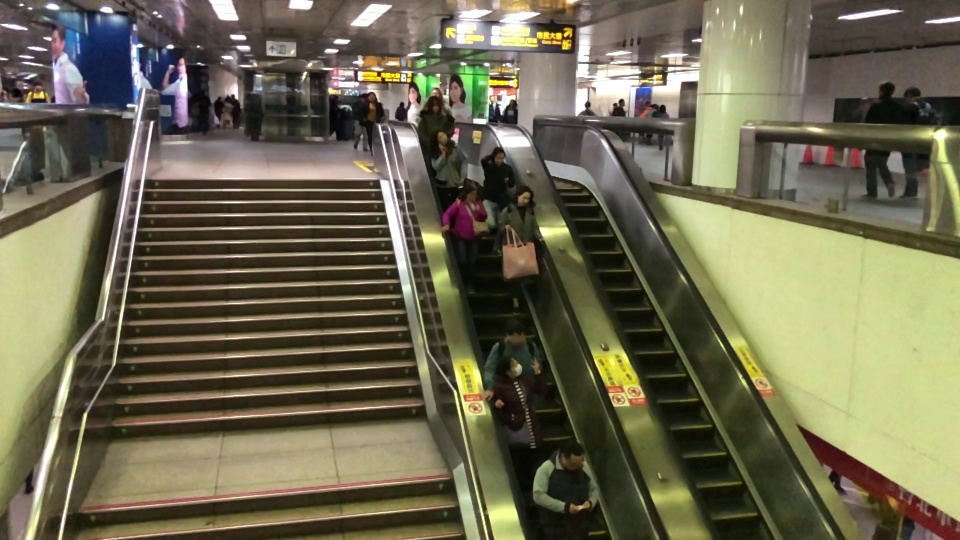person_head: (559, 436, 584, 470), (504, 318, 530, 348), (494, 356, 523, 380), (513, 185, 534, 213), (905, 85, 923, 104), (425, 94, 440, 116), (492, 145, 506, 168), (465, 179, 479, 201), (878, 78, 893, 97), (436, 129, 448, 148), (367, 92, 377, 106), (32, 80, 43, 92), (611, 100, 618, 112), (488, 95, 496, 102)
person_vbox: (486, 355, 539, 506), (533, 435, 603, 540), (495, 184, 544, 315), (481, 316, 542, 412), (442, 176, 490, 296), (863, 77, 901, 200), (902, 85, 936, 200), (427, 129, 470, 205), (481, 141, 514, 230), (419, 99, 454, 160), (365, 93, 386, 158), (429, 83, 454, 128), (354, 92, 368, 156), (23, 77, 50, 104), (656, 103, 669, 149), (248, 93, 260, 142), (649, 101, 660, 147), (488, 94, 502, 126), (638, 100, 648, 144), (330, 95, 339, 140), (231, 93, 241, 131), (503, 100, 517, 126), (394, 100, 407, 122), (224, 94, 232, 129), (579, 100, 596, 116), (213, 94, 222, 120), (616, 98, 627, 116)
